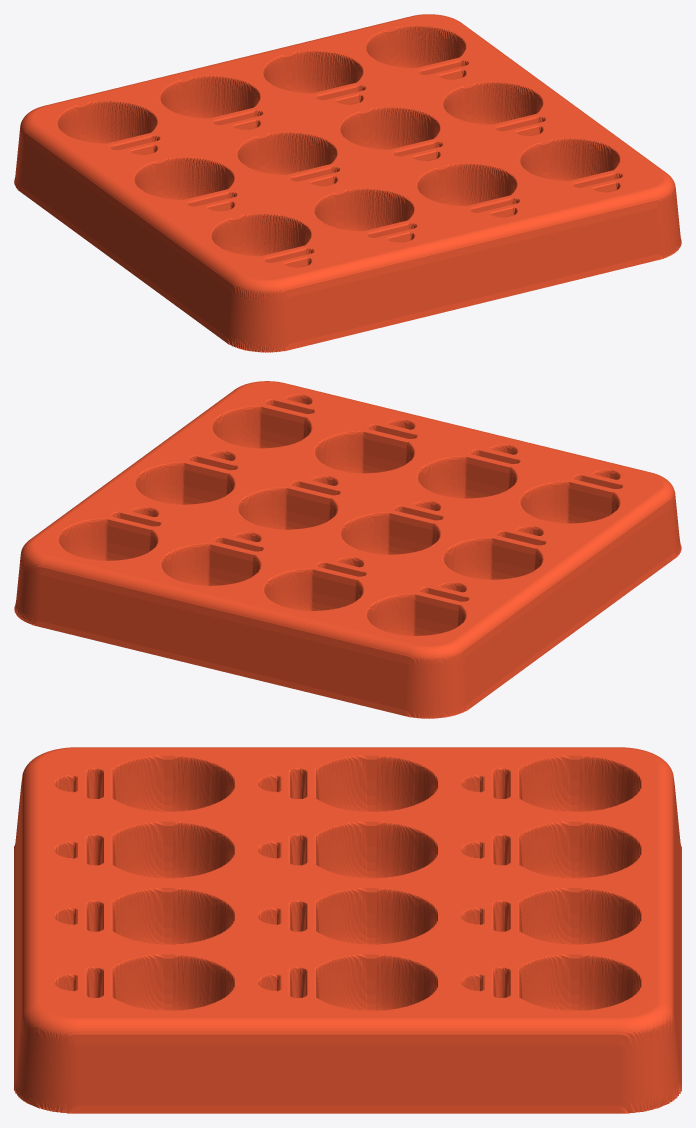
The model's file is mold.glb.
3 renders of one model, top to bottom at view 1: azimuth 30°, elevation 25°; view 2: azimuth 150°, elevation 25°; view 3: azimuth 270°, elevation 25°, orthographic. The views are drawn at different scales.
Parts seen in each view (by area): view 1: geometry_0; view 2: geometry_0; view 3: geometry_0.
Part boxes in pixels (x1=…): geometry_0: x1=14, y1=14, x2=681, y2=352; geometry_0: x1=14, y1=381, x2=681, y2=718; geometry_0: x1=14, y1=747, x2=681, y2=1113.
Bounding box in the file's own units: 0.0988 × 0.0136 × 0.0963.
